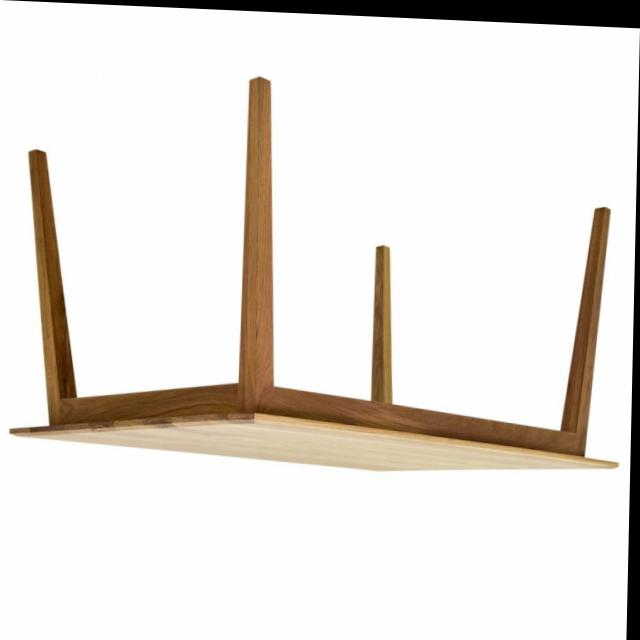Table: (2, 57, 630, 496)
